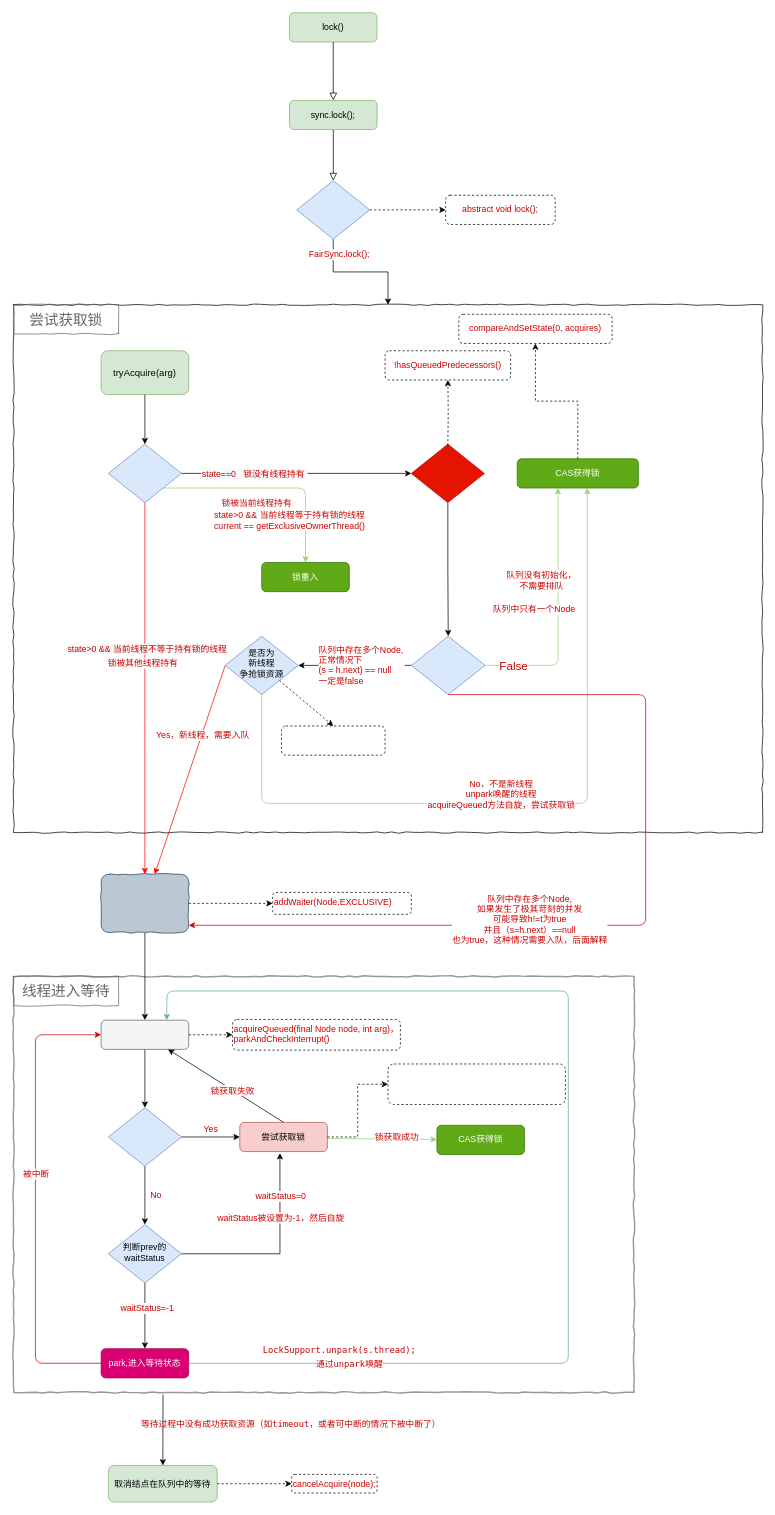
Some shapes in this 775 by 1515 pixel diagram are drawn without their labels. Here are the shapes that lost their labels. From the top down, the centre of each, then its label:
At (x=333, y=209): "锁类型".
At (x=144, y=473): "判断锁状态".
At (x=447, y=473): "判断是否 需要排队".
At (x=448, y=665): "h != t".
At (x=333, y=740): "s.thread != Thread.currentThread()".
At (x=144, y=903): "入队".
At (x=144, y=1034): "acquireQueued".
At (x=476, y=1083): "p == head && tryAcquire(arg) 这一步与上面尝试获取锁流程相同，只是在锁获取失败时不再入队，直接进入线程等待流程".
At (x=144, y=1136): "prev是否 等于head".
